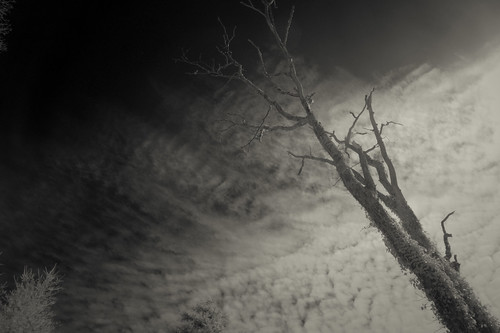sky: (1, 6, 500, 330)
tree: (193, 11, 487, 332)
